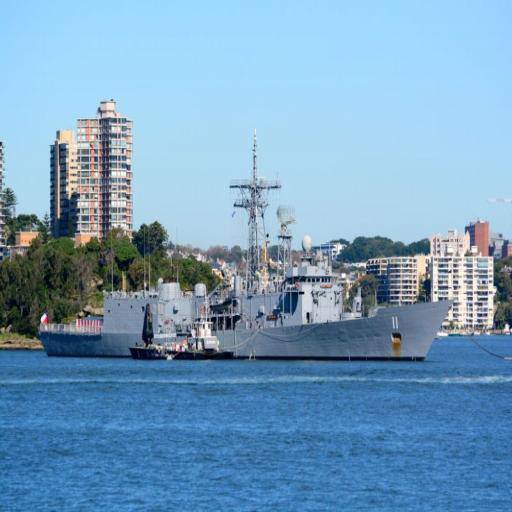Fragata: (35, 108, 461, 370)
